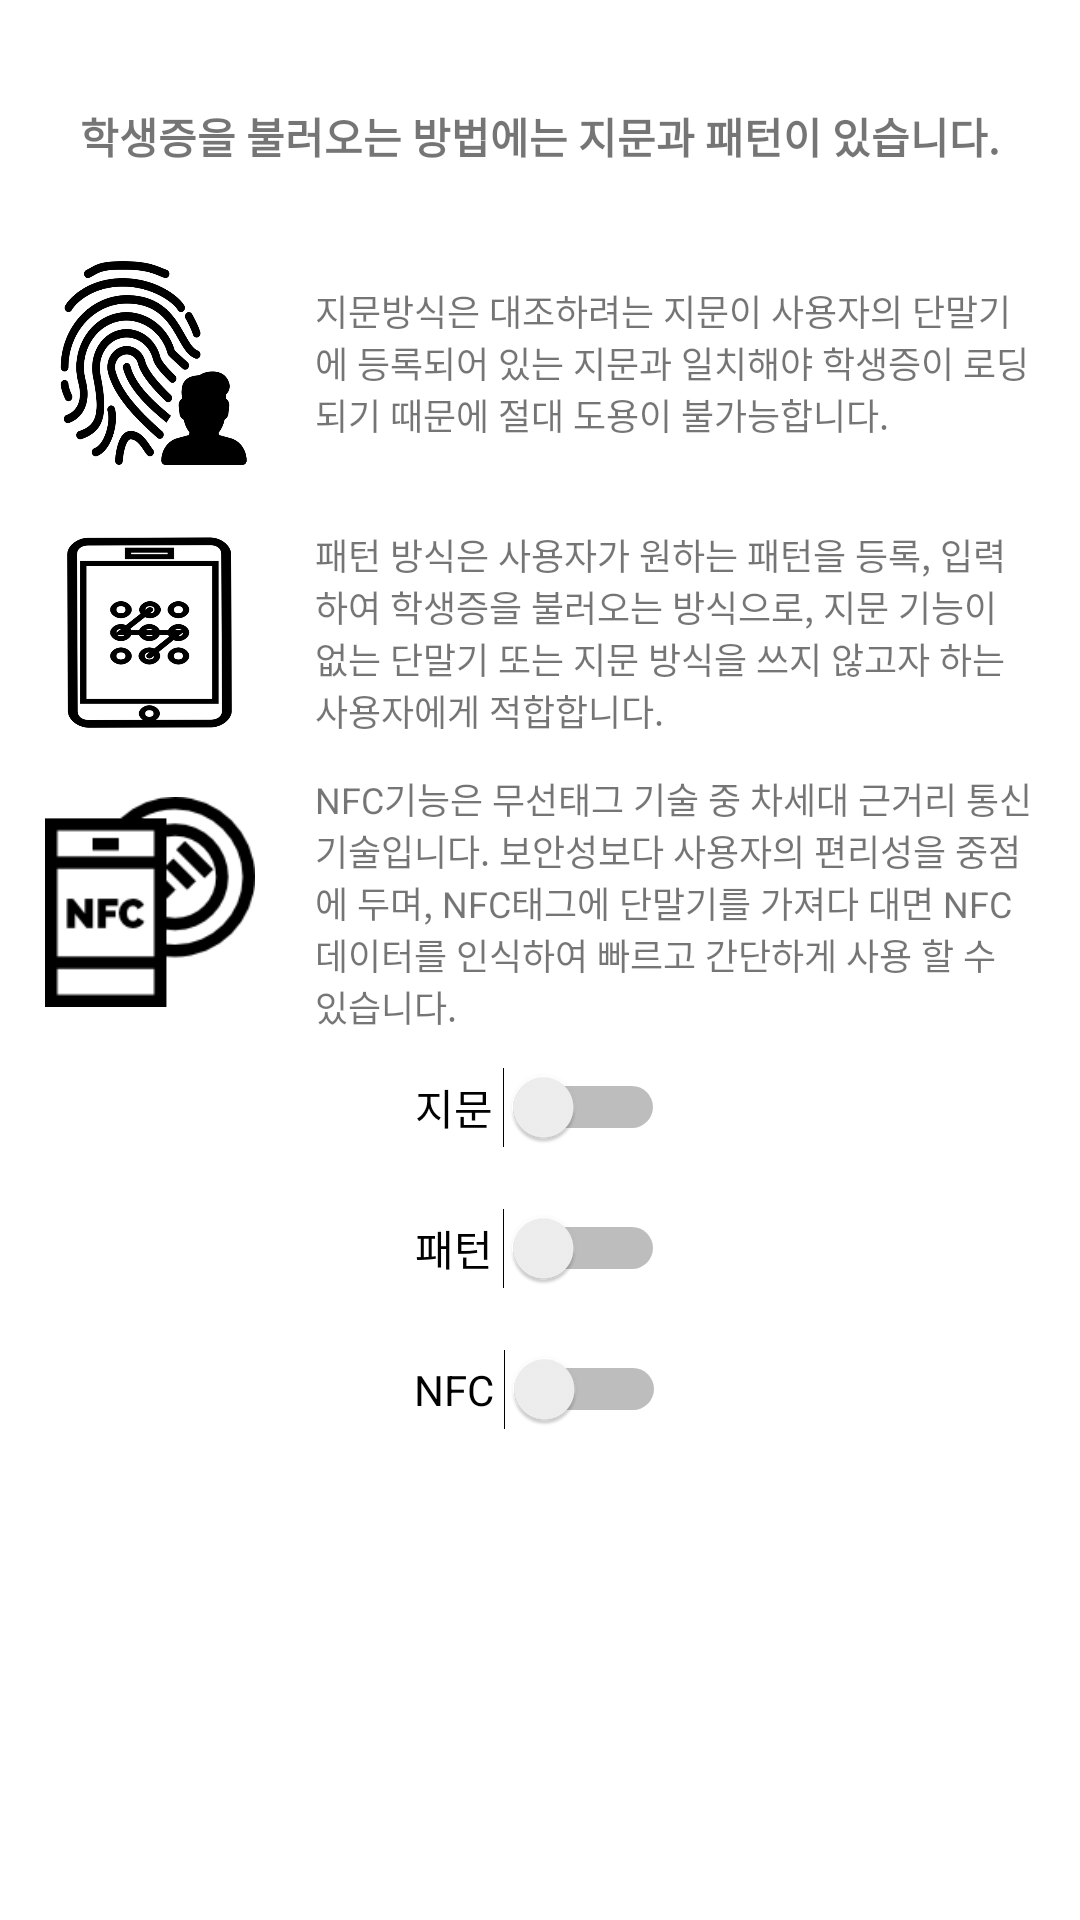

Icon click points for this 1080w x 1920h phone screenshot, format [x,y]:
fingerlock: [153,363]
patternlock: [149,632]
